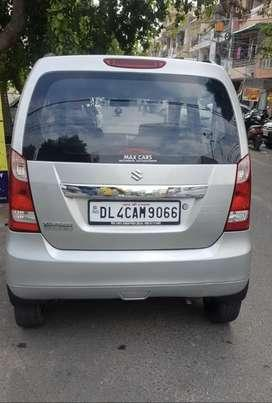DL4CAM9066: (89, 200, 177, 221)
